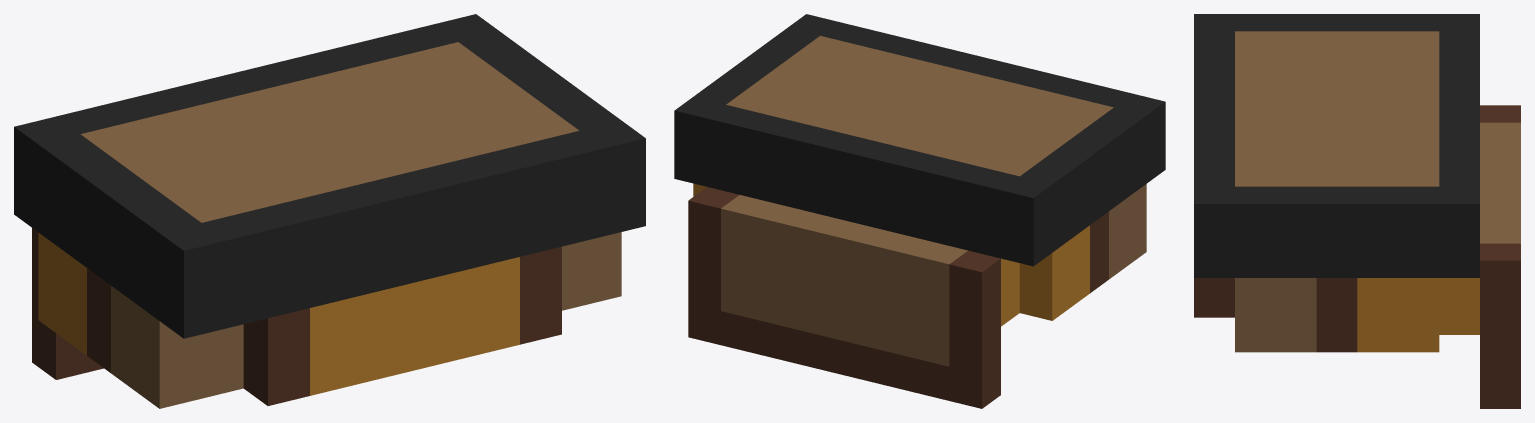
File: GaffgarionHips.fbx
3 renders of one model, left to right at view 1: azimuth 30°, elevation 25°; view 2: azimuth 150°, elevation 25°; view 3: azimuth 270°, elevation 25°, orthographic. The views are drawn at different scales.
Parts seen in each view (by area): view 1: Union_6; view 2: Union_6; view 3: Union_6.
Boxes of the visible parts, bbox=[...] form: Union_6: bbox=[14, 14, 645, 408]; Union_6: bbox=[674, 14, 1165, 408]; Union_6: bbox=[1194, 14, 1520, 408].
Size of the model in its own units: 11 by 6 by 8.
Materials: 1 (1 with a texture image).
